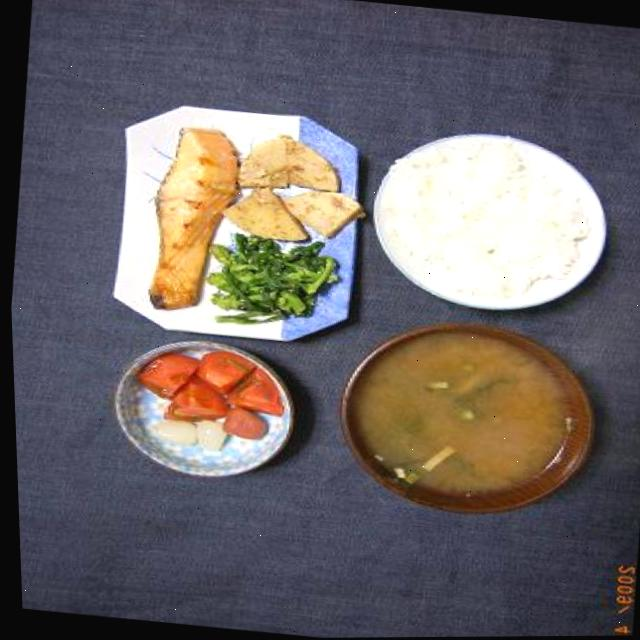熟制海鲜: (119, 102, 250, 329)
